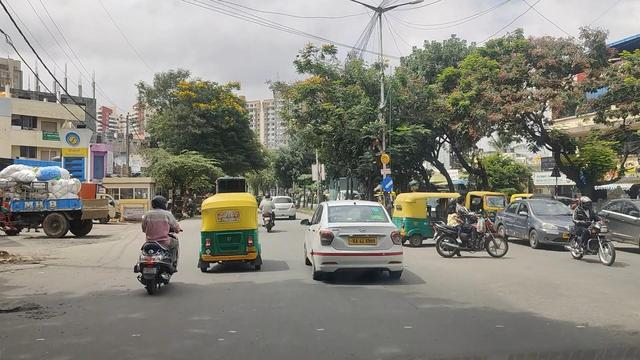HMV: (4, 164, 112, 242)
LMV: (305, 196, 402, 290), (192, 189, 264, 276), (139, 194, 186, 294)
RoadDamages: (0, 286, 77, 331)
